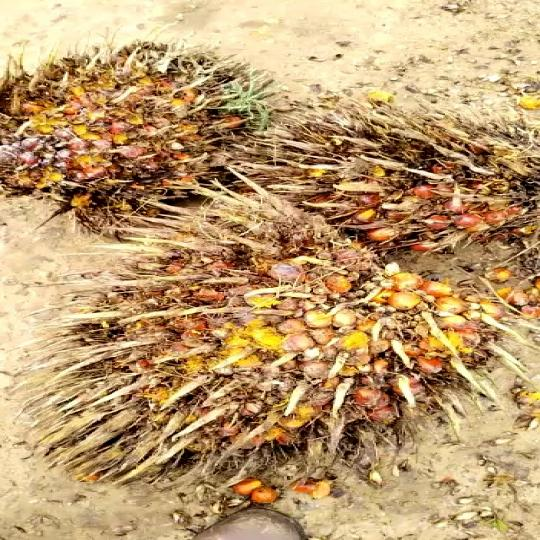terlalu masak: (6, 228, 497, 479), (0, 48, 263, 216)
